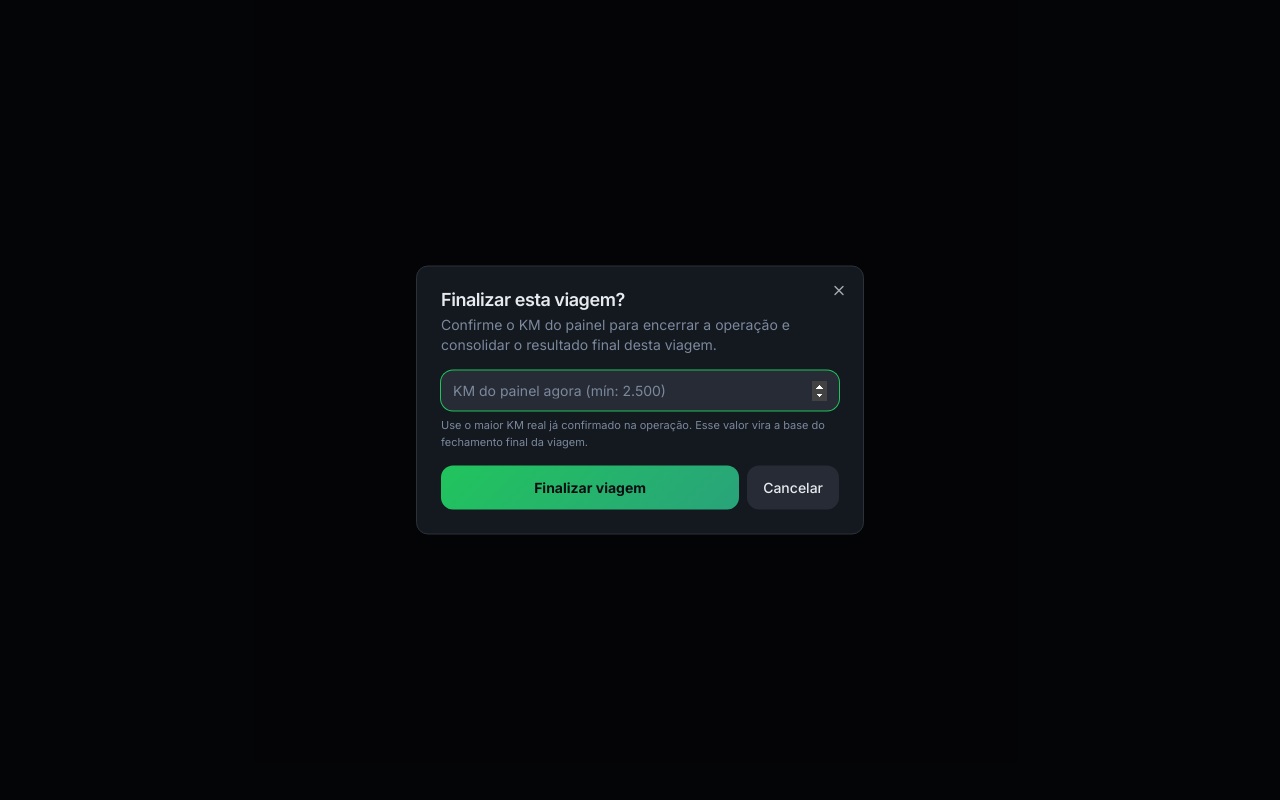
Test case: FinishTripModal › mostra erro claro quando o KM fica abaixo da referência mínima
Type "2400" into the number field with placeholder "KM do painel agora (mín: 2.500)".
click(640, 390); type("2400")  # box [441,370,839,410]
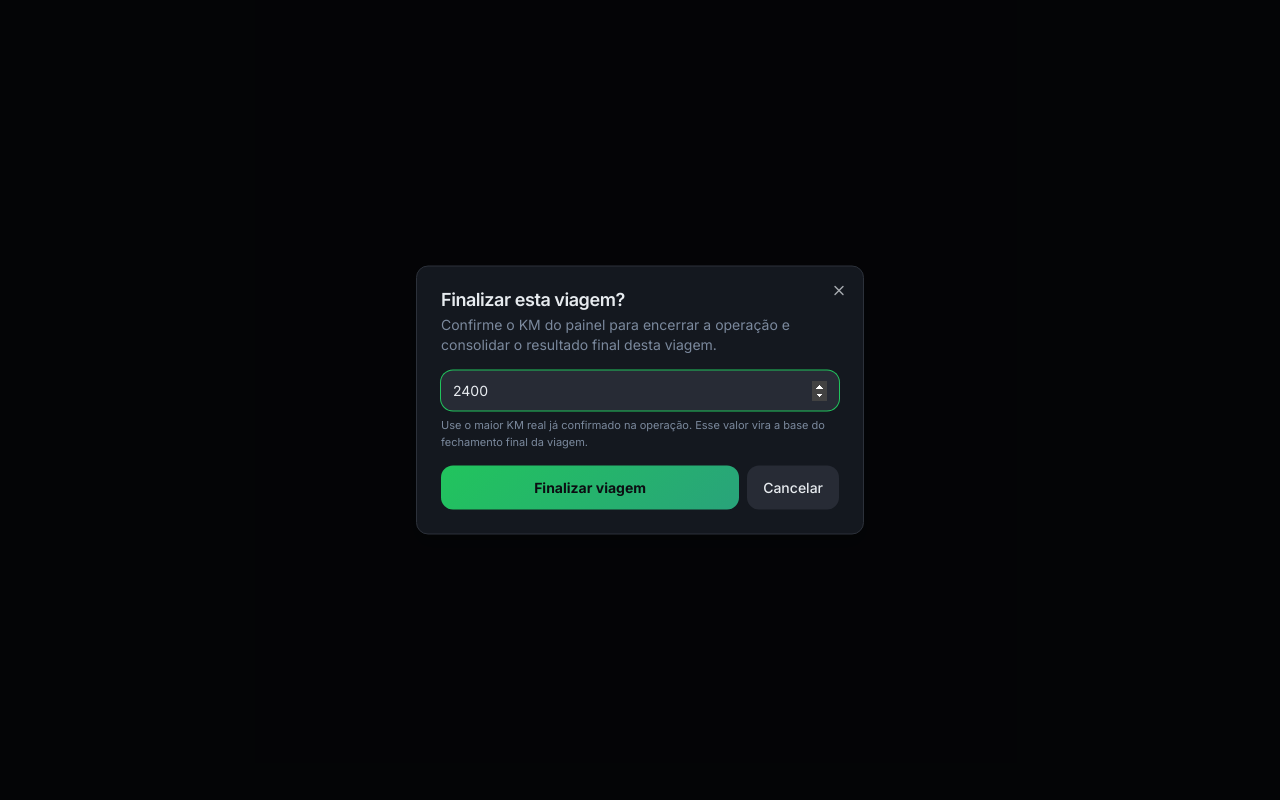
Click the button "Finalizar viagem".
click(590, 488)  # box [441,466,739,510]
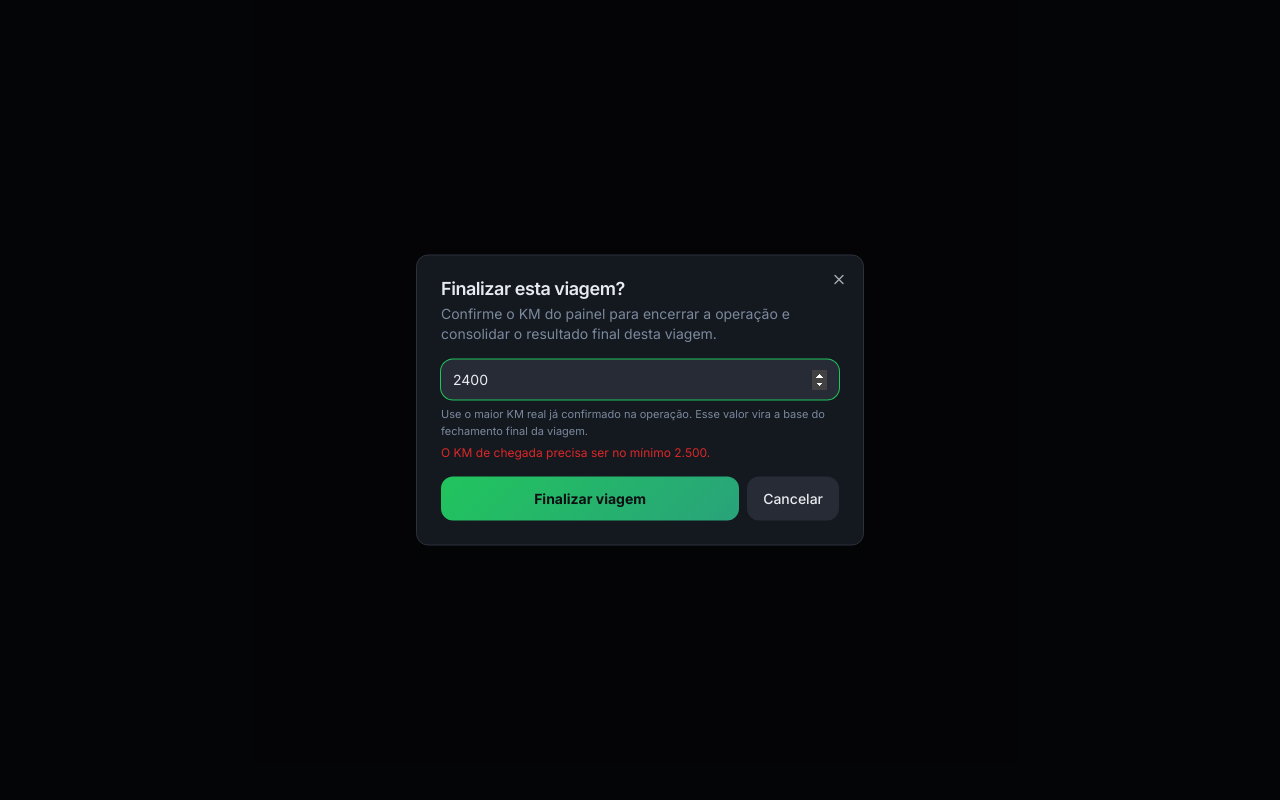
Now the text "O KM de chegada precisa ser no mínimo 2.500." is shown, box [441,444,710,460]
